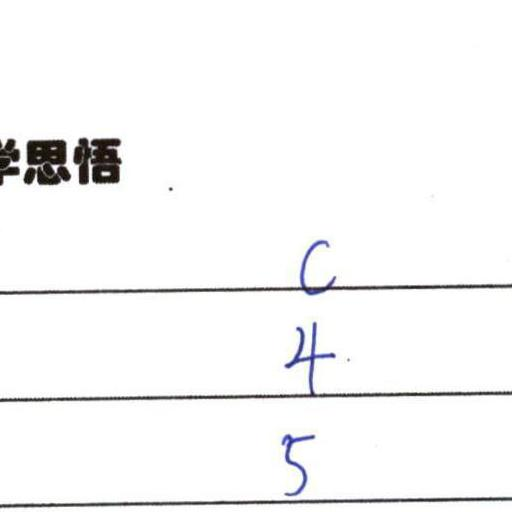ans: (278, 314, 335, 394), (271, 422, 315, 497), (291, 232, 339, 297)
